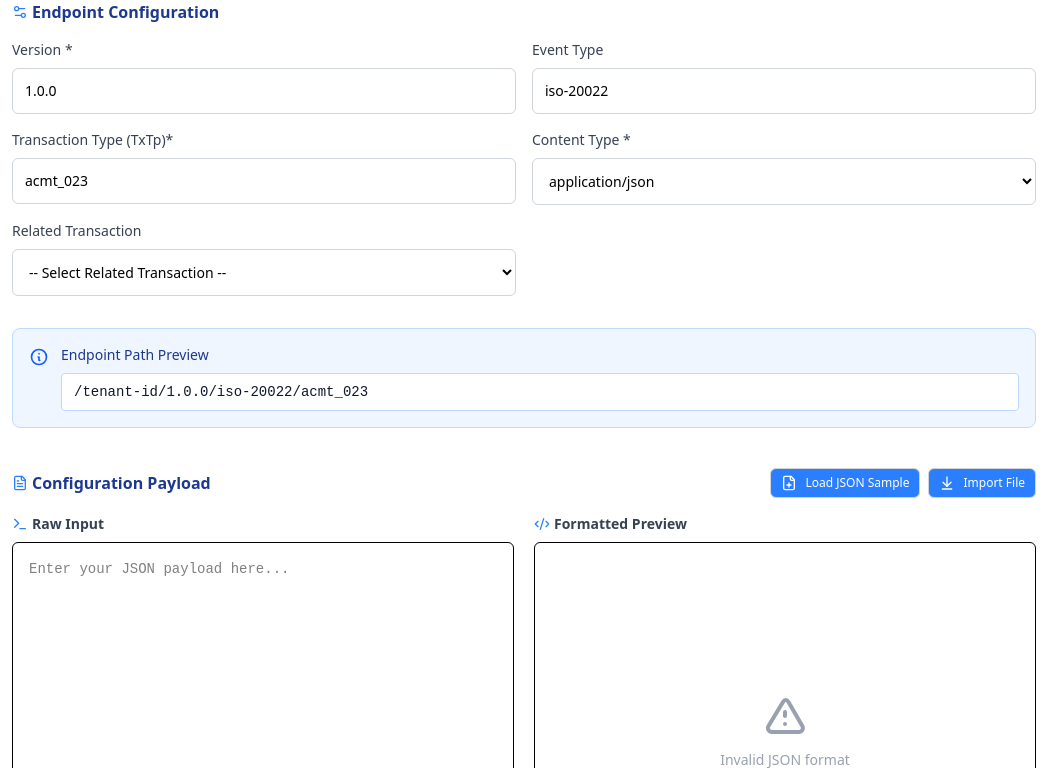
Scenario: shared/components/PayloadEditor.tsx › handleEndpointDataChange with field not in errorFieldMap after validateAllFields (covers errorFieldMap || fallback)
Select "application/xml" in the dropdown labelled "Content Type *" at x=784, y=182, box [532,158,1036,205]
(page scrolled)
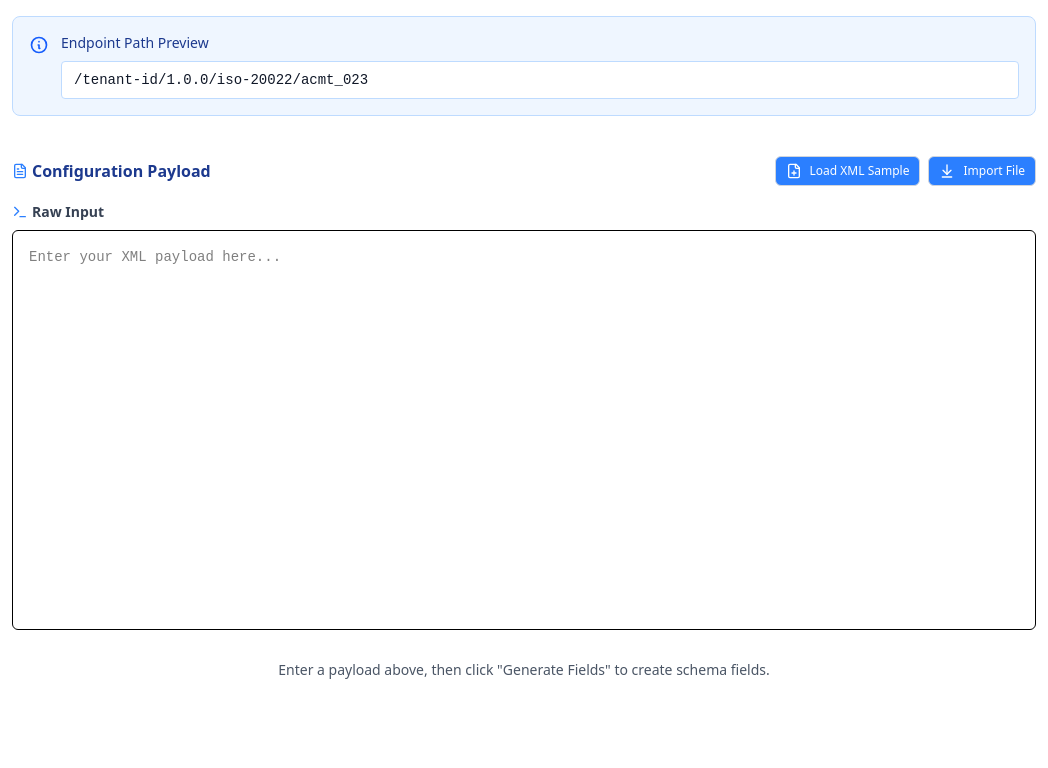
Now the text box with placeholder "Enter your XML payload here..." is shown, box [12,230,1036,630]
